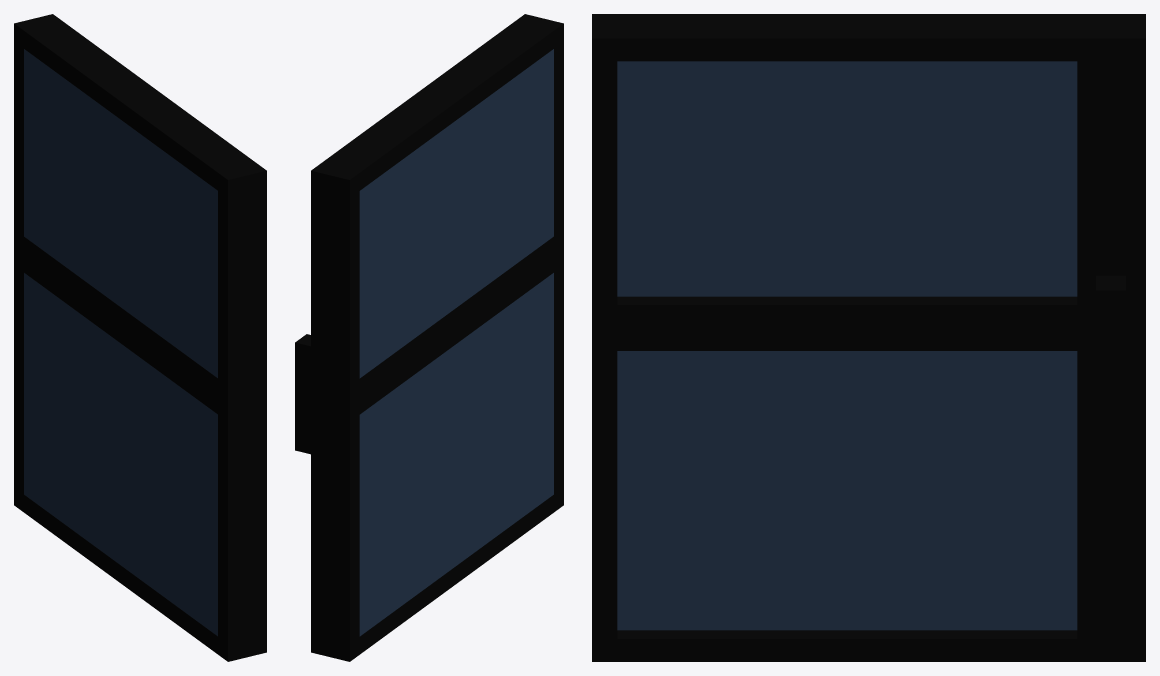
Rendered from Door.fbx.
The picture shows the model from 3 angles, left to right: view 1: azimuth 30°, elevation 25°; view 2: azimuth 150°, elevation 25°; view 3: azimuth 270°, elevation 25°; orthographic projection. The views are drawn at different scales.
Visible parts, largest first — view 1: Cube; view 2: Cube; view 3: Cube.
Part boxes in pixels (x1,y1,x2,y2): Cube: [14, 14, 266, 661]; Cube: [295, 14, 563, 661]; Cube: [592, 14, 1145, 661].
Bounding box in the file's own units: 121 × 893 × 719.
